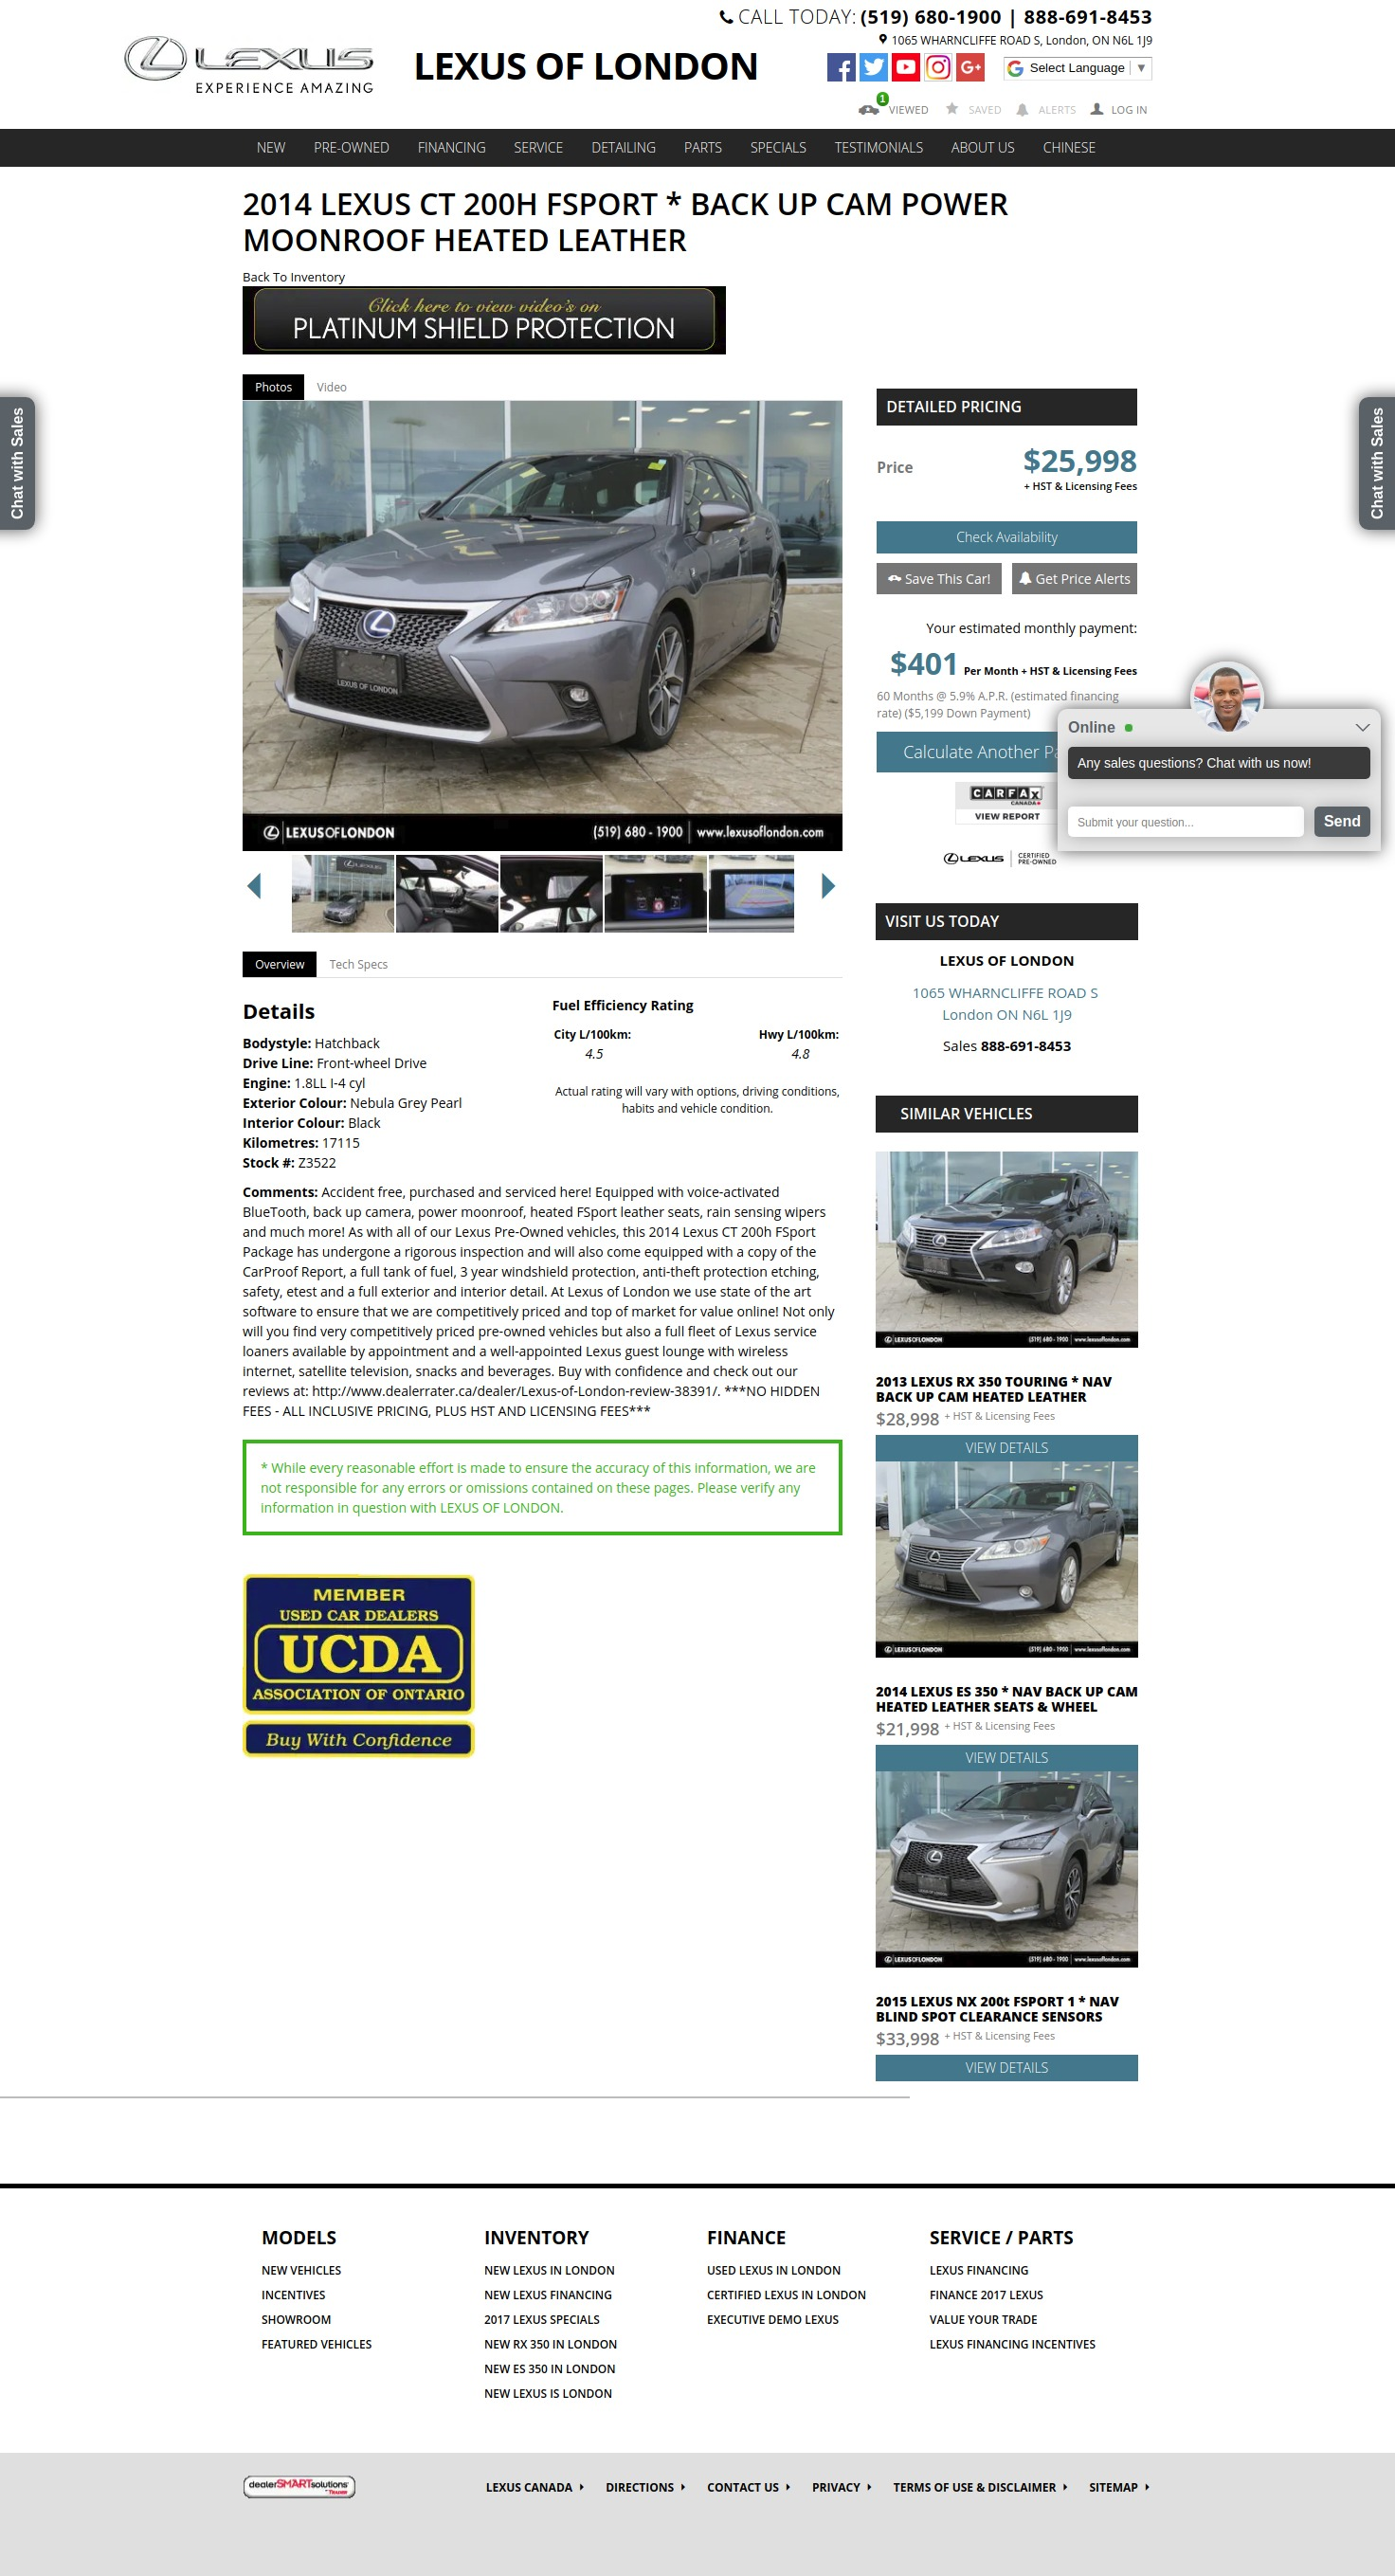car: (821, 872, 838, 900)
